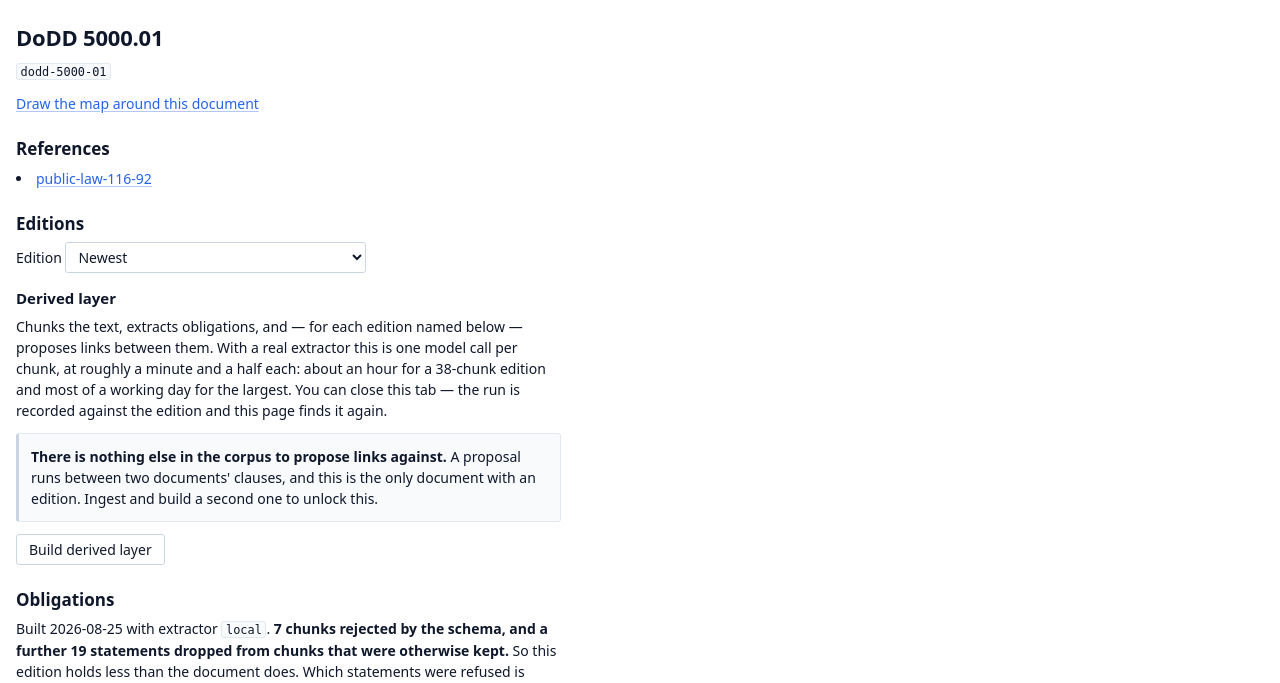
Test: DocumentDetail — building the derived layer › states the refusals once when a build finishes in this tab
Click the button "Build derived layer" at [90, 549], box 16,534 -> 165,565
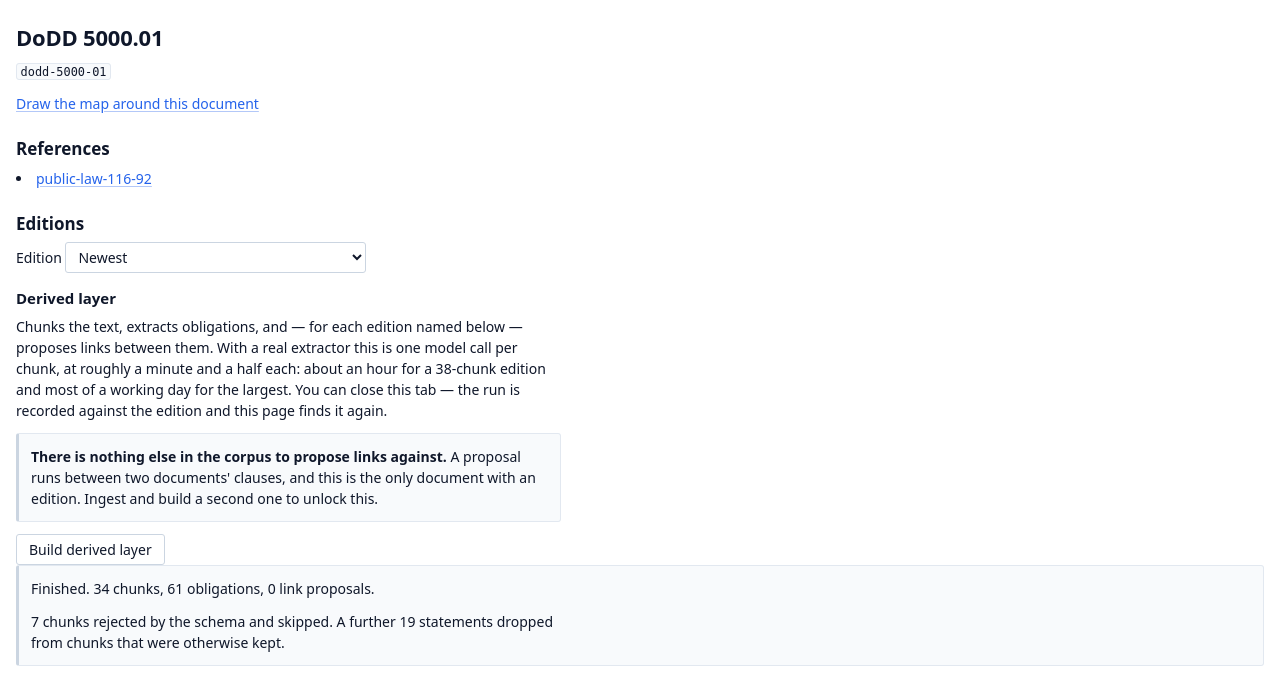
Expected: the text "7 chunks rejected" is shown, 31,612 -> 245,631
